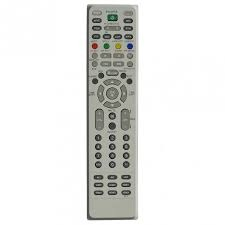remote control: (87, 2, 141, 221)
